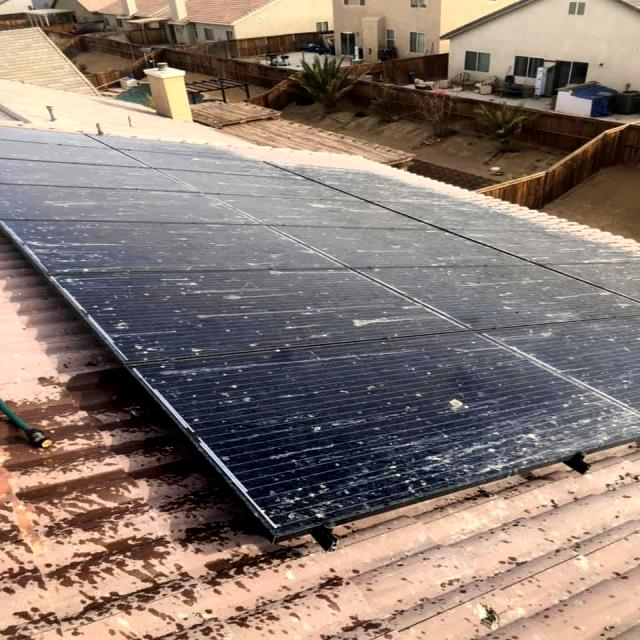bird: (160, 263, 266, 352), (334, 297, 364, 348), (436, 384, 473, 422)
dust: (228, 395, 432, 536), (422, 247, 606, 352), (52, 180, 270, 242)
